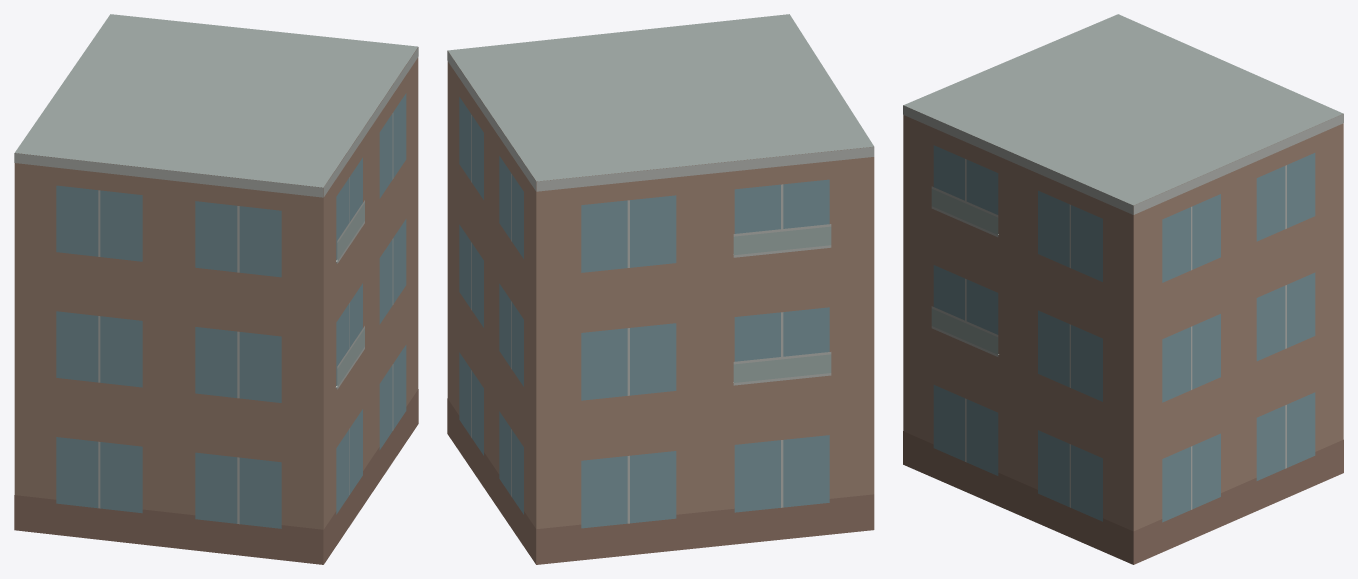
File: survey-upis-32726151.glb
3 views of the same model, side by side, from view 1: azimuth 30°, elevation 25°; view 2: azimuth 150°, elevation 25°; view 3: azimuth 270°, elevation 25° (orthographic). The views are drawn at different scales.
Parts seen in each view (by area): view 1: survey-upis-32726151.tmp; view 2: survey-upis-32726151.tmp; view 3: survey-upis-32726151.tmp.
Part boxes in pixels (box(x1,y1,x2,y2)): survey-upis-32726151.tmp: box(14, 14, 418, 564); survey-upis-32726151.tmp: box(447, 14, 874, 564); survey-upis-32726151.tmp: box(903, 14, 1343, 564).
Size of the model in its own units: 10.46 by 9.15 by 10.17.
